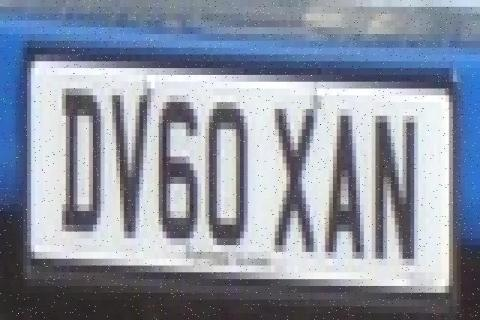LicensePlate: (20, 34, 466, 298)
